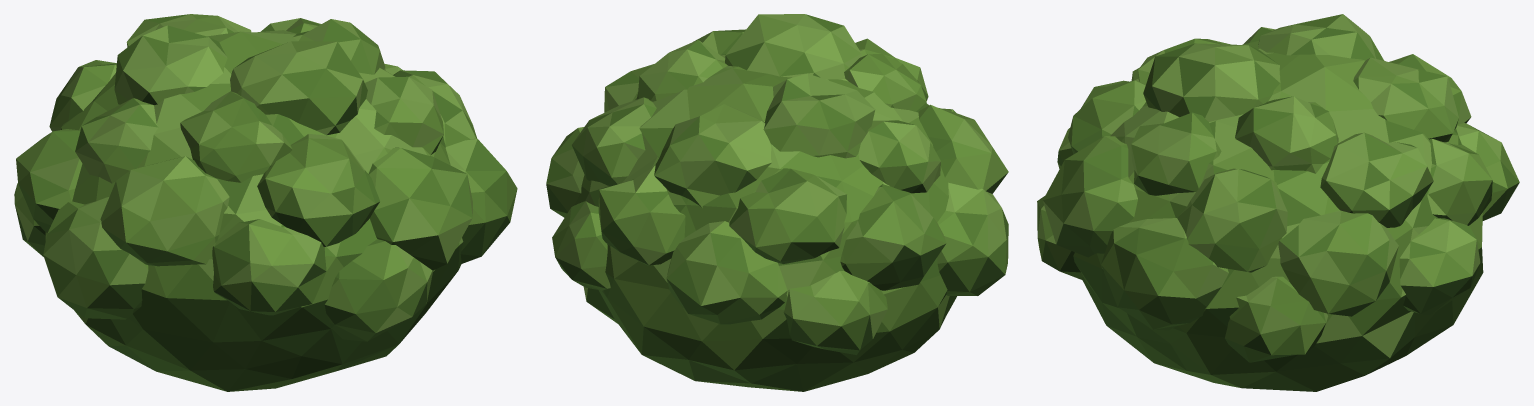
File: zen_shrub.glb
The picture shows the model from 3 angles, left to right: view 1: azimuth 30°, elevation 25°; view 2: azimuth 150°, elevation 25°; view 3: azimuth 270°, elevation 25°; orthographic projection. The views are drawn at different scales.
Visible parts, largest first — view 1: zen_shrub; view 2: zen_shrub; view 3: zen_shrub.
Boxes of the visible parts, x1=… form: zen_shrub: x1=14, y1=14, x2=517, y2=391; zen_shrub: x1=546, y1=14, x2=1008, y2=391; zen_shrub: x1=1037, y1=14, x2=1519, y2=391.
Bounding box in the file's own units: 2.16 × 1.49 × 2.17.
